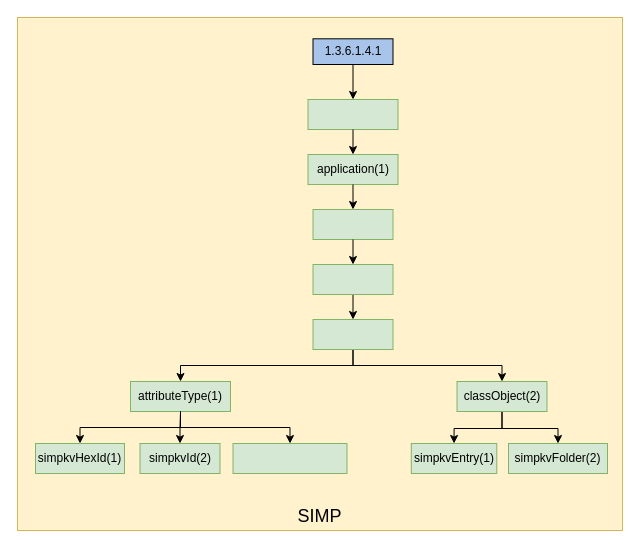
The diagram is 640 pixels wide and 548 high, and some of its shapes have lost their labels. The box of each missing label's shape, as (x1, y1, x2, y2) in pixels:
ldap(1): (312, 208, 393, 240)
puppet(1): (312, 264, 393, 294)
SIMP(47012): (307, 98, 398, 130)
simpkv(1): (312, 318, 393, 350)
simpkvJsonValue(3): (232, 442, 347, 474)
